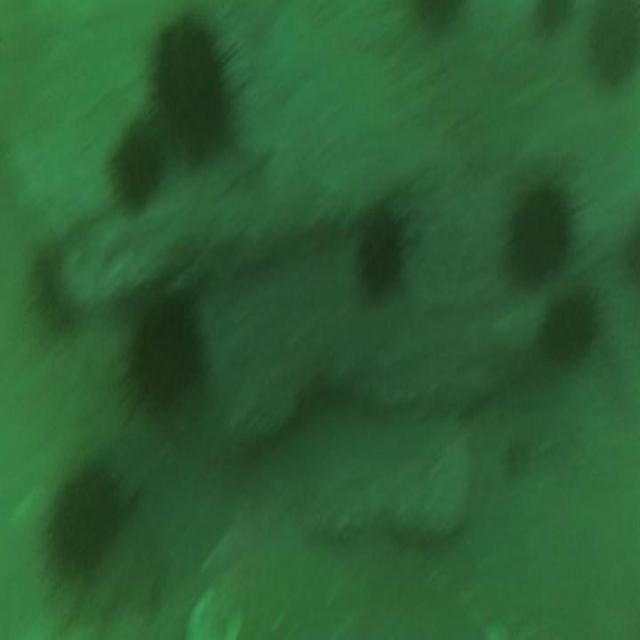echinus: (145, 8, 235, 171), (124, 291, 208, 436), (41, 455, 126, 597), (497, 167, 571, 302), (537, 273, 599, 384), (113, 110, 169, 224), (348, 194, 406, 302), (586, 4, 640, 91)
